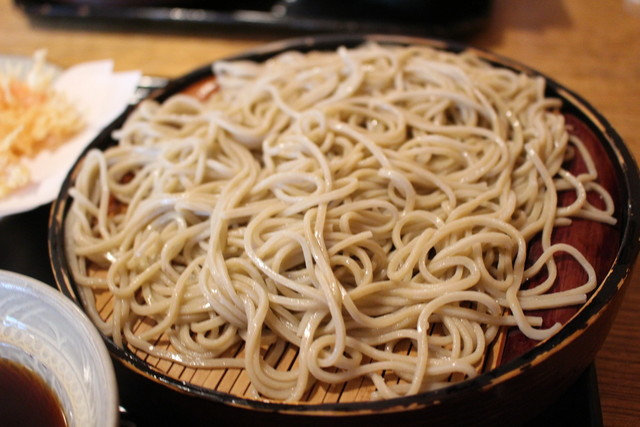Soba: (80, 55, 620, 377)
